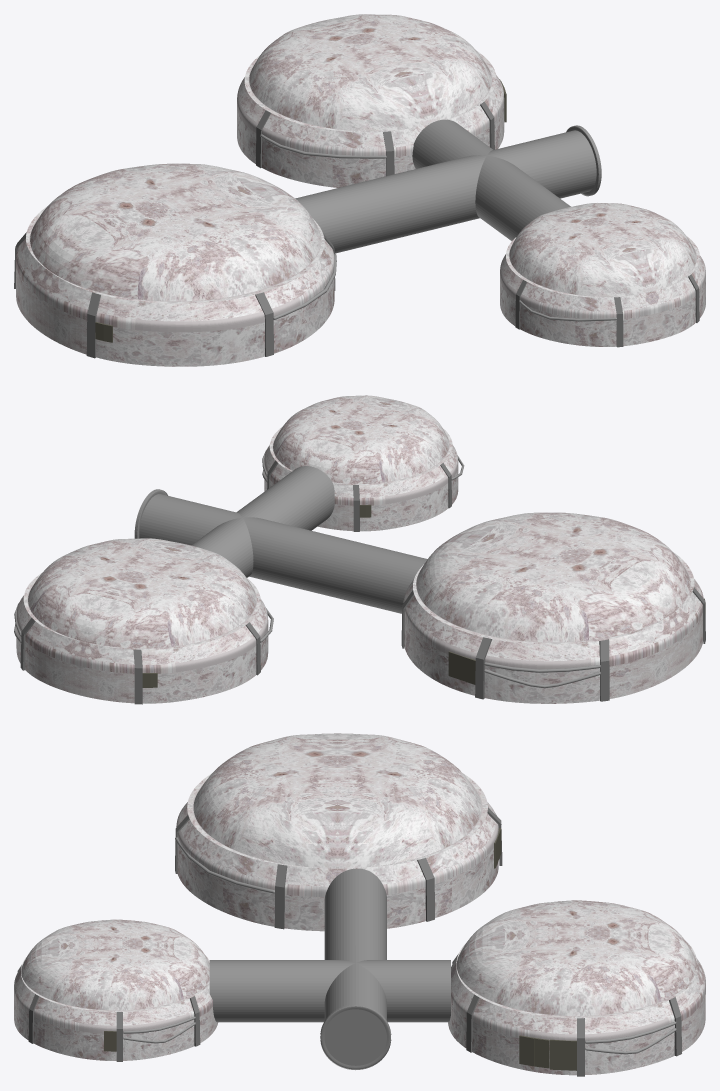
The picture shows the model from 3 angles, top to bottom: view 1: azimuth 30°, elevation 25°; view 2: azimuth 150°, elevation 25°; view 3: azimuth 270°, elevation 25°; orthographic projection. The views are drawn at different scales.
Parts seen in each view (by area): view 1: Base3, Base1, Base2, ConnectingTubes, Border6.002, Border5.002; view 2: Base3, Base1, ConnectingTubes, Base2, PanelB1.002, Border2.002, Border1.002, Border6; view 3: Base3, Base1, ConnectingTubes, Base2, PanelB1, Border4.002, Border3.002.
Boxes of the visible parts, x1,y1,x2,y2 form: Base3: (16, 163, 334, 366); Base1: (237, 14, 504, 187); Base2: (500, 203, 705, 346); ConnectingTubes: (295, 119, 601, 253); Border6.002: (86, 292, 100, 358); Border5.002: (255, 292, 273, 356); Base3: (403, 512, 703, 703); Base1: (16, 538, 268, 703); ConnectingTubes: (134, 466, 427, 613); Base2: (264, 395, 458, 531); PanelB1.002: (448, 651, 475, 684); Border2.002: (599, 639, 609, 701); Border1.002: (475, 637, 492, 699); Border6: (133, 649, 142, 704); Base3: (176, 733, 498, 931); Base1: (448, 900, 705, 1075); ConnectingTubes: (209, 868, 450, 1070); Base2: (14, 919, 218, 1060); PanelB1: (550, 1039, 576, 1070); Border4.002: (274, 864, 287, 929); Border3.002: (417, 858, 434, 921).
Bounding box in the file's own units: 15922 × 2605 × 16861.
